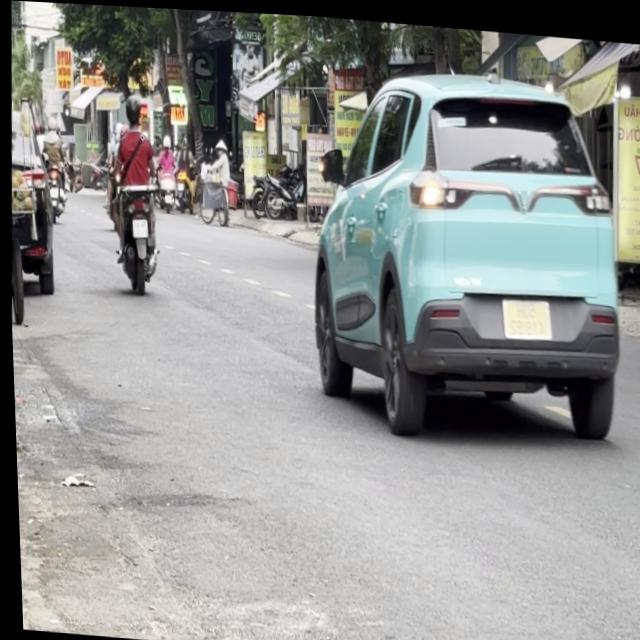helmet: (124, 92, 144, 129)
licenseplate: (101, 89, 166, 291)
nohelmet: (130, 216, 147, 236)
